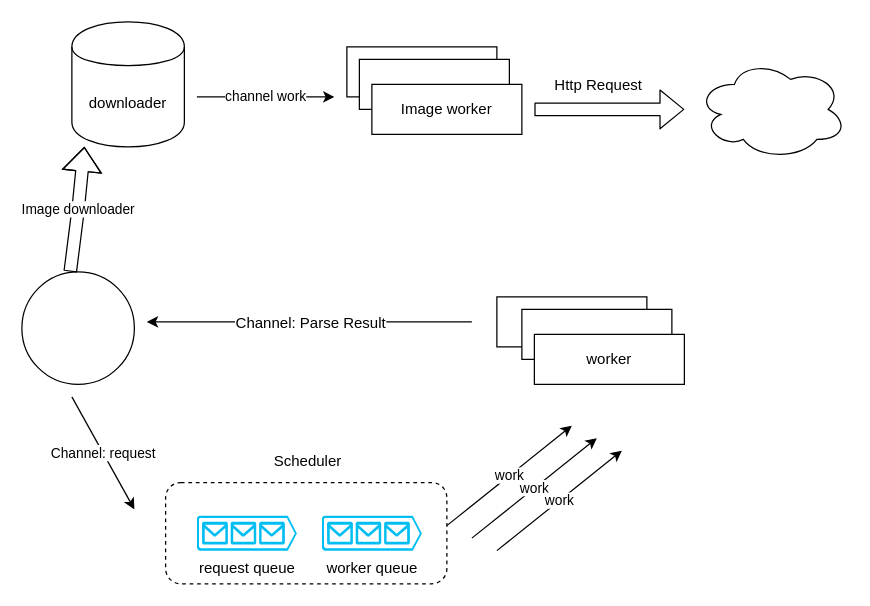
This 870x606 diagram has some shape labels left out. Each missing label, with the centre of its shape:
Cloud: point (771, 108)
Engine: point (77, 327)
